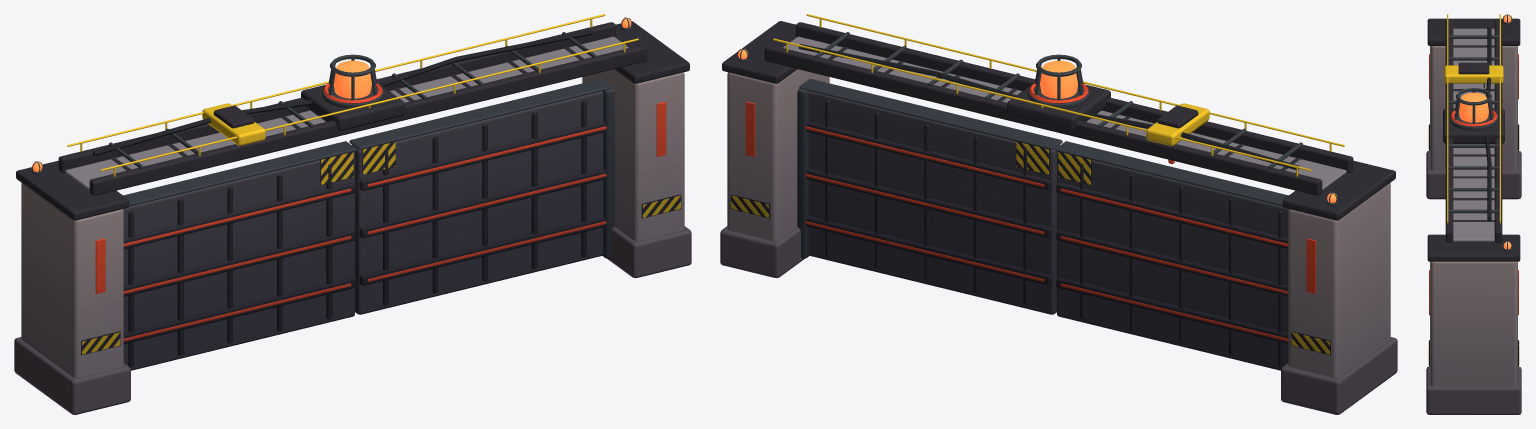
File: lock-gate.glb
The picture shows the model from 3 angles, left to right: view 1: azimuth 30°, elevation 25°; view 2: azimuth 150°, elevation 25°; view 3: azimuth 270°, elevation 25°; orthographic projection. The views are drawn at different scales.
Visible parts, largest first — view 1: lock-gate GateR Ashen slate, lock-gate GateL Ashen slate, lock-gate Bunker concrete, lock-gate Ashen charcoal, lock-gate GateR Ashen charcoal, lock-gate GateL Ashen charcoal, lock-gate Bunker footing, lock-gate Ash grey, lock-gate GateR Gunmetal, lock-gate Hazard yellow, lock-gate GateL Gunmetal, lock-gate GateR Ember paint (+6 smaller); view 2: lock-gate GateR Ashen slate, lock-gate GateL Ashen slate, lock-gate Bunker concrete, lock-gate Ashen charcoal, lock-gate GateR Ashen charcoal, lock-gate GateL Ashen charcoal, lock-gate Bunker footing, lock-gate GateR Gunmetal, lock-gate Hazard yellow, lock-gate Ash grey, lock-gate GateL Gunmetal, lock-gate GateR Ember paint (+6 smaller); view 3: lock-gate Bunker concrete, lock-gate Ashen charcoal, lock-gate Ash grey, lock-gate Bunker footing, lock-gate Hazard yellow, lock-gate Gunmetal, lock-gate Generator Gunmetal, lock-gate Rubber, lock-gate Generator Ember glow, lock-gate Generator Ember paint, lock-gate Ember paint.
Boxes of the visible parts, x1=… form: lock-gate GateR Ashen slate: x1=352, y1=91, x2=603, y2=314; lock-gate GateL Ashen slate: x1=123, y1=152, x2=354, y2=370; lock-gate Bunker concrete: x1=21, y1=69, x2=684, y2=377; lock-gate Ashen charcoal: x1=16, y1=21, x2=689, y2=355; lock-gate GateR Ashen charcoal: x1=359, y1=100, x2=605, y2=305; lock-gate GateL Ashen charcoal: x1=123, y1=151, x2=355, y2=367; lock-gate Bunker footing: x1=14, y1=226, x2=691, y2=414; lock-gate Ash grey: x1=65, y1=36, x2=628, y2=189; lock-gate GateR Gunmetal: x1=349, y1=78, x2=614, y2=258; lock-gate Hazard yellow: x1=67, y1=14, x2=680, y2=354; lock-gate GateL Gunmetal: x1=123, y1=141, x2=356, y2=206; lock-gate GateR Ember paint: x1=367, y1=126, x2=606, y2=281; lock-gate GateR Ashen slate: x1=808, y1=91, x2=1059, y2=314; lock-gate GateL Ashen slate: x1=1057, y1=152, x2=1288, y2=370; lock-gate Bunker concrete: x1=727, y1=69, x2=1390, y2=377; lock-gate Ashen charcoal: x1=722, y1=21, x2=1395, y2=355; lock-gate GateR Ashen charcoal: x1=806, y1=100, x2=1052, y2=305; lock-gate GateL Ashen charcoal: x1=1056, y1=151, x2=1288, y2=367; lock-gate Bunker footing: x1=720, y1=226, x2=1397, y2=414; lock-gate GateR Gunmetal: x1=797, y1=78, x2=1062, y2=258; lock-gate Hazard yellow: x1=731, y1=14, x2=1344, y2=354; lock-gate Ash grey: x1=783, y1=36, x2=1346, y2=189; lock-gate GateL Gunmetal: x1=1055, y1=141, x2=1288, y2=206; lock-gate GateR Ember paint: x1=805, y1=126, x2=1044, y2=281; lock-gate Bunker concrete: x1=1430, y1=46, x2=1517, y2=386; lock-gate Ashen charcoal: x1=1427, y1=18, x2=1520, y2=366; lock-gate Ash grey: x1=1453, y1=28, x2=1494, y2=241; lock-gate Bunker footing: x1=1426, y1=150, x2=1521, y2=414; lock-gate Hazard yellow: x1=1428, y1=14, x2=1519, y2=364; lock-gate Gunmetal: x1=1448, y1=14, x2=1512, y2=251; lock-gate Generator Gunmetal: x1=1449, y1=88, x2=1498, y2=130; lock-gate Rubber: x1=1485, y1=26, x2=1491, y2=221; lock-gate Generator Ember glow: x1=1459, y1=92, x2=1488, y2=122; lock-gate Generator Ember paint: x1=1450, y1=110, x2=1497, y2=126; lock-gate Ember paint: x1=1429, y1=54, x2=1518, y2=315.
Bounding box in the file's own units: 21.9 × 8.63 × 3.7.
10 materials, 9 textured.
